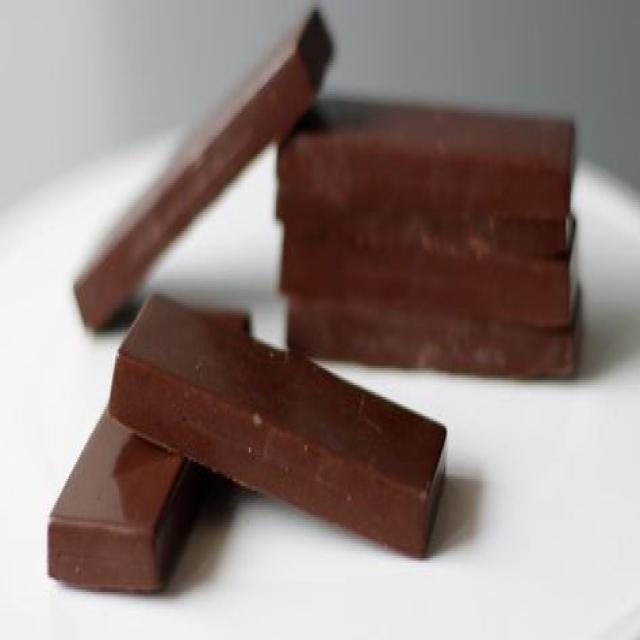Chocolate: (47, 294, 451, 595), (76, 3, 336, 334), (276, 104, 586, 380)
